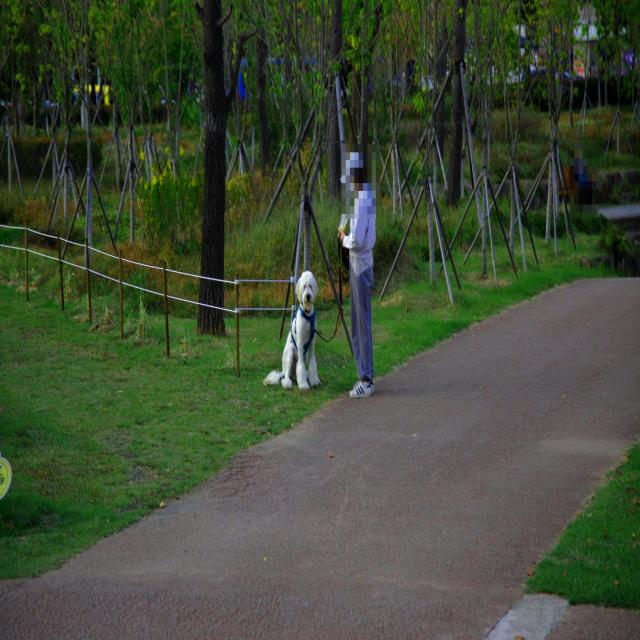Leashed_Dog: (262, 227, 360, 390)
